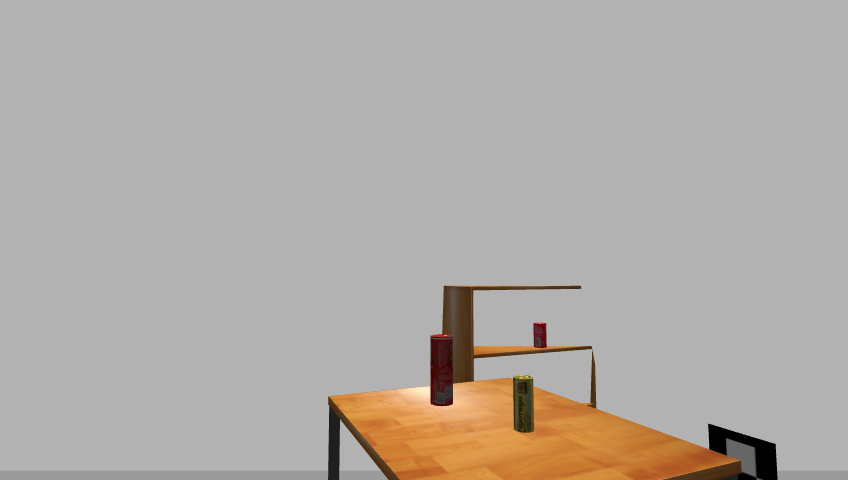aruco marker: (702, 422, 785, 480)
biscuits pack: (512, 376, 535, 434)
bookshelf: (437, 281, 589, 439)
coke can: (531, 322, 549, 350)
dinner table: (319, 379, 748, 480)
pringles can: (428, 333, 455, 408)
